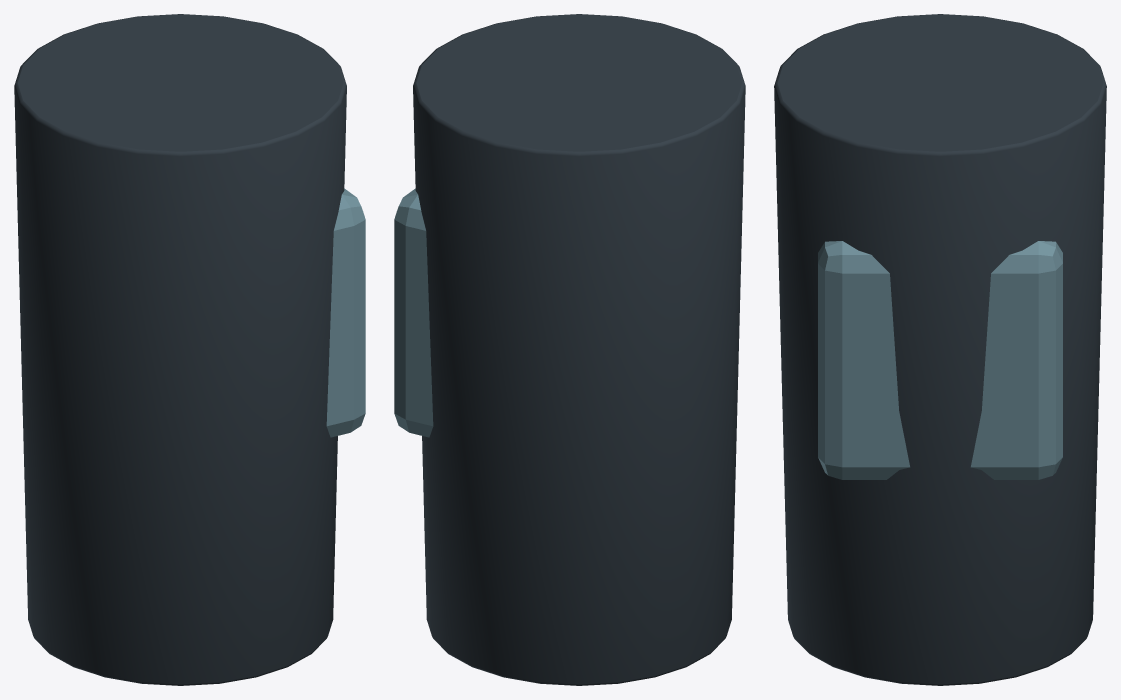
Rendered from thigh.glb.
The picture shows the model from 3 angles, left to right: view 1: azimuth 30°, elevation 25°; view 2: azimuth 150°, elevation 25°; view 3: azimuth 270°, elevation 25°; orthographic projection.
Parts seen in each view (by area): view 1: Trouser leg, Side pocket; view 2: Trouser leg, Side pocket; view 3: Trouser leg, Side pocket.
Boxes of the visible parts, x1,y1,x2,y2 form: Trouser leg: (14, 14, 346, 685); Side pocket: (326, 188, 365, 437); Trouser leg: (413, 14, 745, 685); Side pocket: (394, 188, 433, 437); Trouser leg: (774, 14, 1106, 685); Side pocket: (818, 241, 1062, 479).
Size of the model in its own units: 0.1899 by 0.34 by 0.1899.
